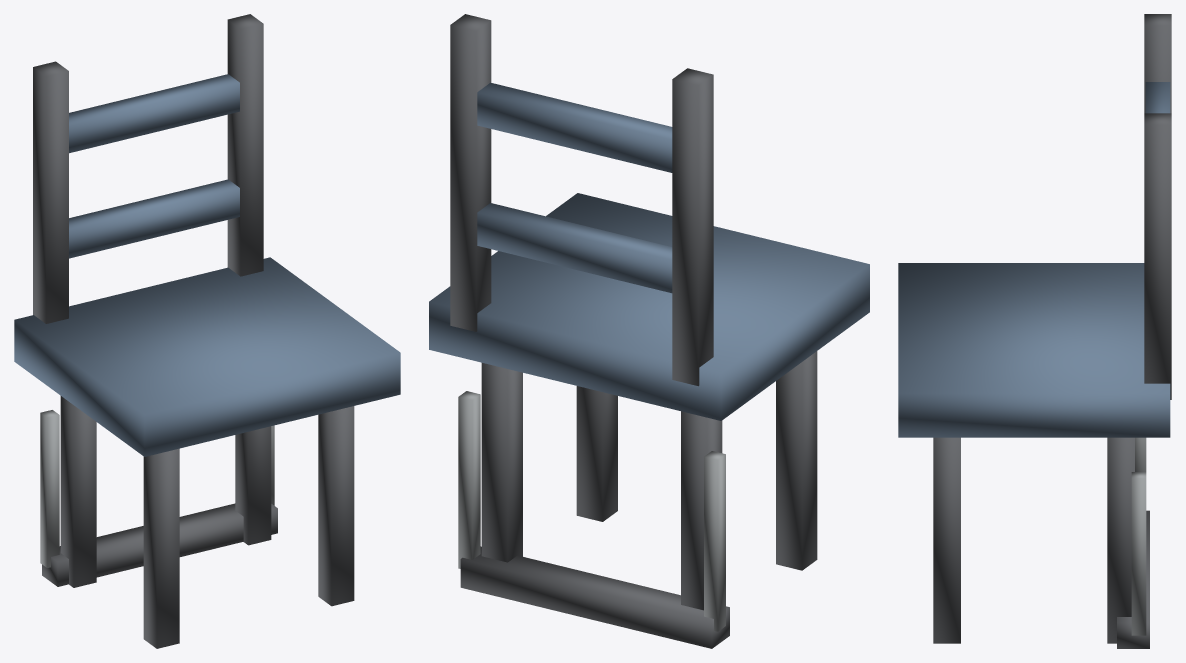
Rendered from interview_chair__reinforced.glb.
3 views of the same model, side by side, from view 1: azimuth 30°, elevation 25°; view 2: azimuth 150°, elevation 25°; view 3: azimuth 270°, elevation 25° (orthographic). The views are drawn at different scales.
Visible parts, largest first — view 1: world; view 2: world; view 3: world.
Part boxes in pixels (<box>): world: <box>14,14,400,648</box>; world: <box>429,14,869,648</box>; world: <box>898,14,1171,648</box>.
Size of the model in its own units: 0.5188 by 0.9705 by 0.4595.
